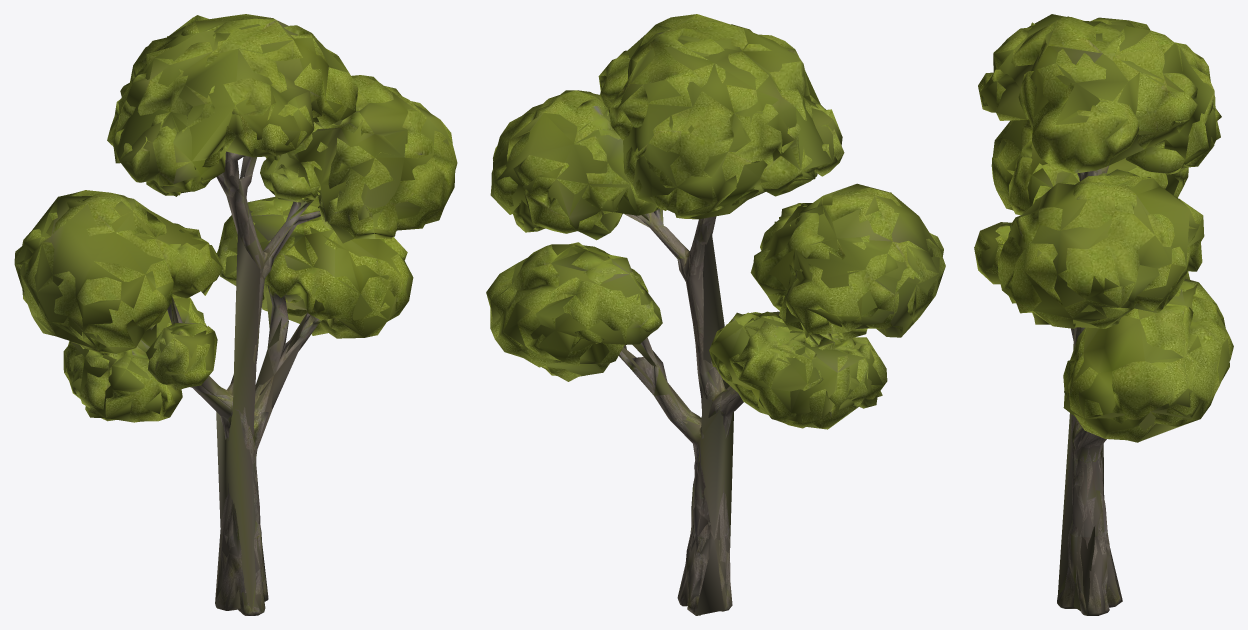
Rendered from fresno.glb.
3 renders of one model, left to right at view 1: azimuth 30°, elevation 25°; view 2: azimuth 150°, elevation 25°; view 3: azimuth 270°, elevation 25°, orthographic.
Visible parts, largest first — view 1: cerca, medio, lejos; view 2: cerca, medio, lejos; view 3: cerca, medio, lejos.
Part boxes in pixels (x1,y1,x2,y2): cerca: [14, 14, 457, 615]; medio: [15, 15, 452, 615]; lejos: [20, 20, 444, 610]; cerca: [486, 14, 945, 615]; medio: [490, 14, 943, 615]; lejos: [490, 29, 939, 615]; cerca: [974, 14, 1233, 615]; medio: [975, 16, 1230, 615]; lejos: [980, 14, 1225, 615].
Bounding box in the file's own units: 7.11 × 9.19 × 3.74.
Materials: 2 (1 with a texture image).
